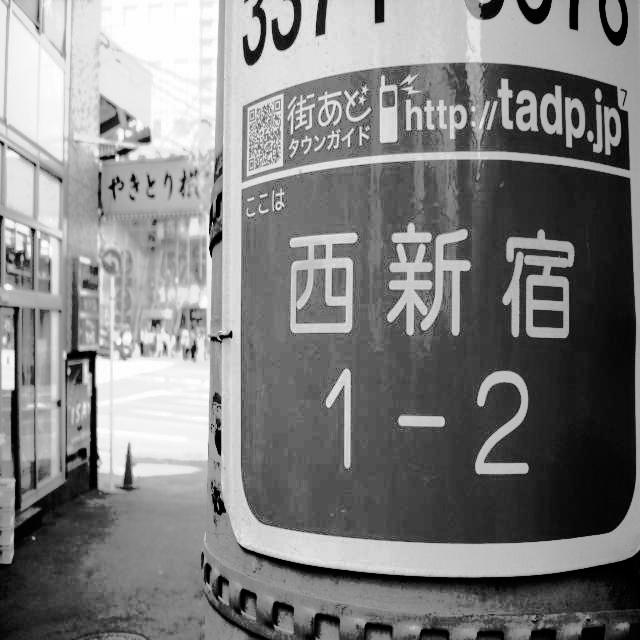qr_code: (249, 99, 281, 171)
